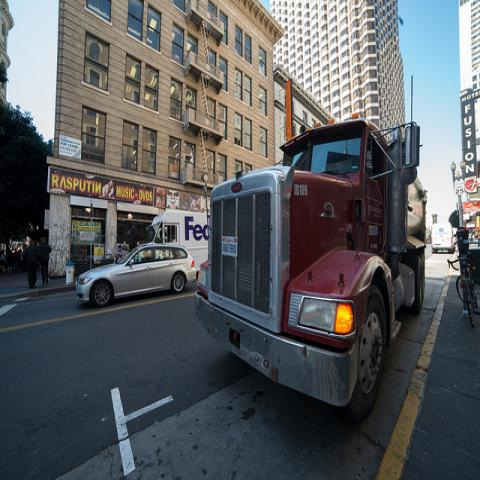car: (77, 246, 196, 305), (432, 221, 456, 254)
truck: (192, 120, 427, 426), (150, 209, 208, 272)
